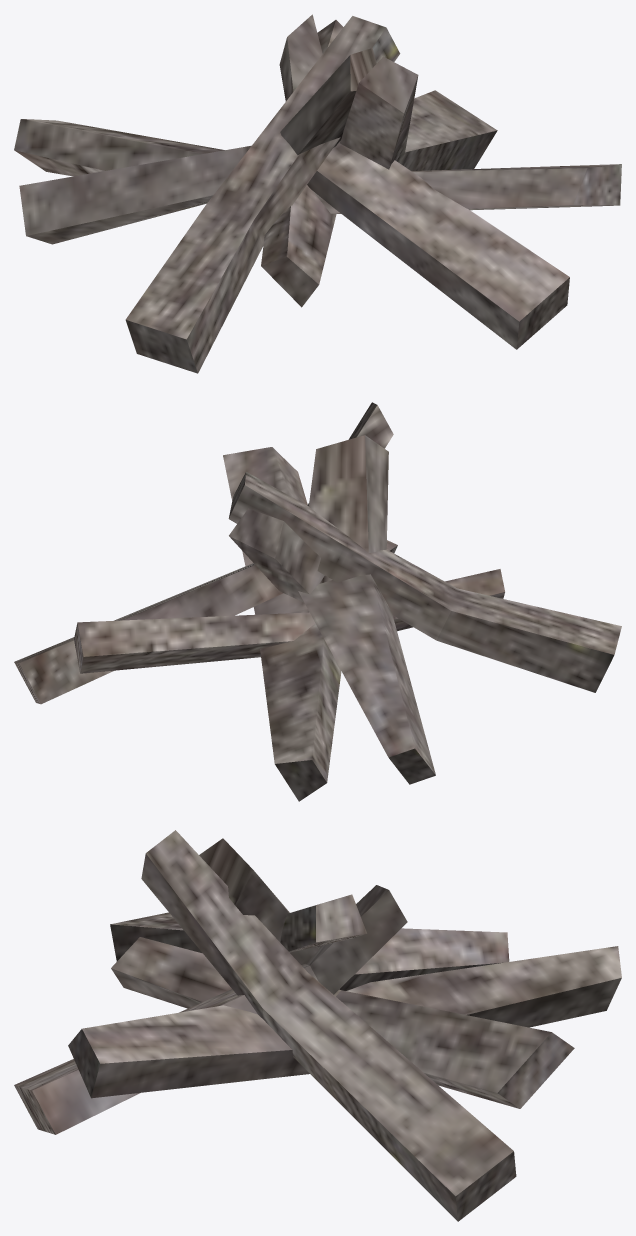
The model's file is campfire_wood.glb.
The picture shows the model from 3 angles, top to bottom: view 1: azimuth 30°, elevation 25°; view 2: azimuth 150°, elevation 25°; view 3: azimuth 270°, elevation 25°; orthographic projection. The views are drawn at different scales.
Visible parts, largest first — view 1: bonfire_bonfire_0; view 2: bonfire_bonfire_0; view 3: bonfire_bonfire_0.
Part boxes in pixels (x1=…): bonfire_bonfire_0: x1=14, y1=14, x2=621, y2=373; bonfire_bonfire_0: x1=14, y1=402, x2=621, y2=801; bonfire_bonfire_0: x1=14, y1=830, x2=621, y2=1221.
Bounding box in the file's own units: 2.29 × 1.18 × 2.32.
1 material, 1 textured.
